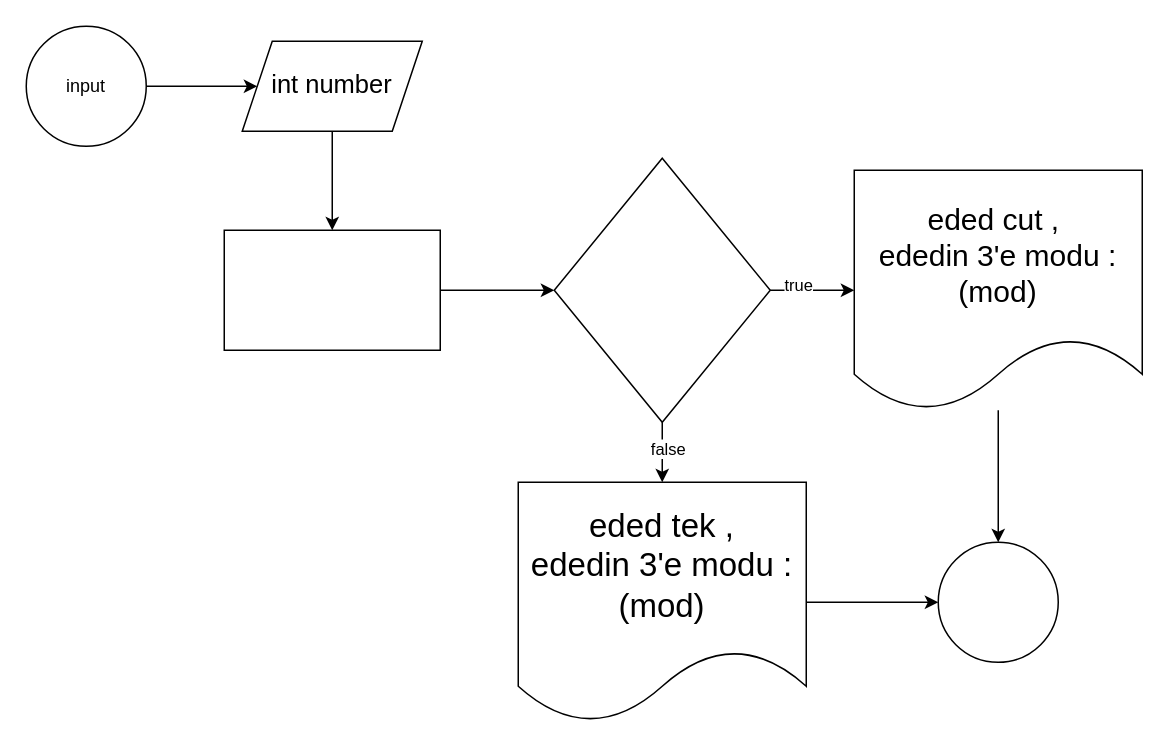
The diagram is 1169 pixels wide and 749 high, and some of its shapes have lost their labels. Each missing label, with the box of its shape:
int mod = number % 3: (223, 229, 440, 350)
number%2==0: (553, 157, 770, 422)
